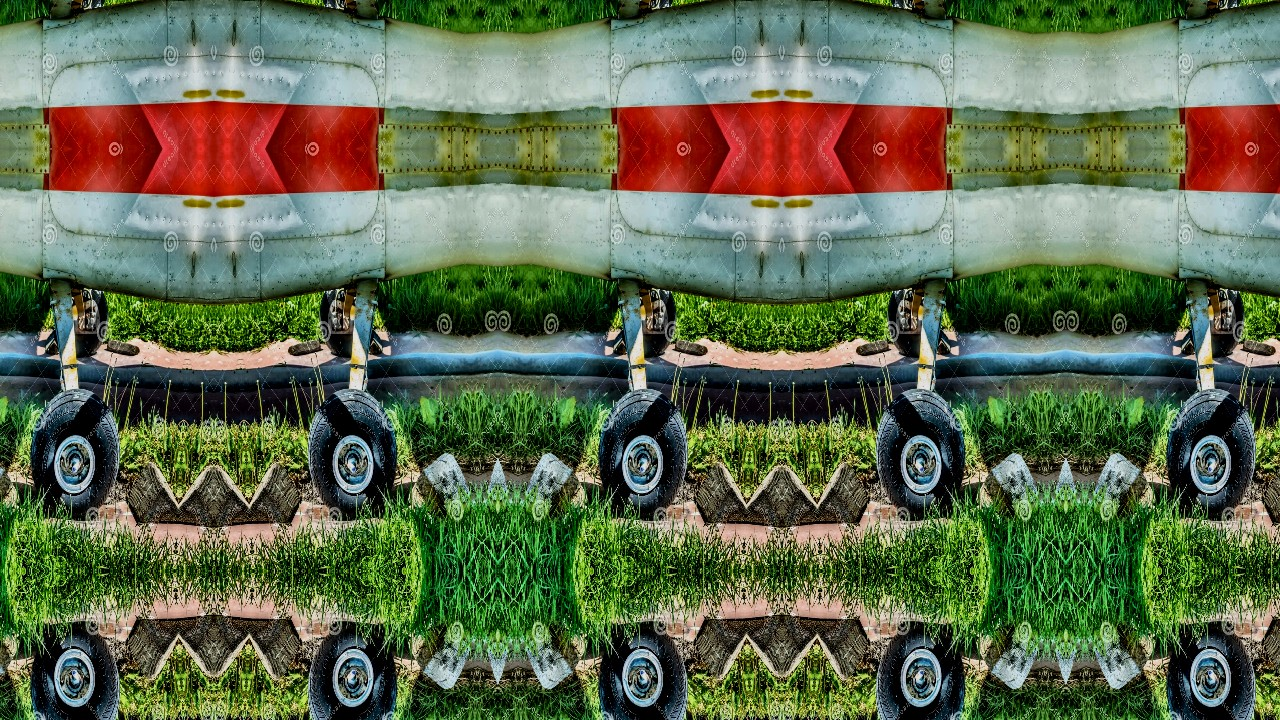chock: (404, 444, 474, 522), (521, 444, 591, 522), (973, 444, 1043, 522), (1090, 444, 1160, 522), (404, 621, 474, 698), (521, 621, 591, 698), (973, 621, 1043, 698), (1090, 621, 1160, 698), (123, 612, 181, 688), (246, 612, 304, 688), (692, 612, 750, 688), (814, 612, 872, 688), (123, 455, 181, 530), (246, 455, 304, 530), (692, 455, 750, 530), (814, 455, 872, 530), (177, 458, 214, 534), (745, 458, 782, 534), (782, 458, 819, 534), (177, 609, 214, 684), (745, 609, 782, 684), (782, 609, 819, 684), (214, 458, 250, 534), (214, 609, 250, 684), (0, 444, 23, 522), (0, 621, 23, 698), (1260, 612, 1280, 688), (1260, 455, 1280, 530), (43, 324, 61, 357), (366, 324, 384, 357), (1180, 324, 1198, 357), (612, 324, 629, 357), (935, 324, 952, 357)
wheel: (594, 387, 691, 519), (873, 387, 970, 519), (26, 387, 122, 519), (305, 387, 401, 519), (1163, 387, 1259, 519), (594, 624, 691, 720), (873, 624, 970, 720), (26, 624, 122, 720), (305, 624, 401, 720), (1163, 624, 1259, 720), (72, 288, 109, 356), (318, 288, 355, 356), (1209, 288, 1246, 356), (641, 288, 677, 356), (887, 288, 923, 356), (72, 0, 109, 10), (318, 0, 355, 10), (1209, 0, 1246, 10), (641, 0, 677, 10), (887, 0, 923, 10)
